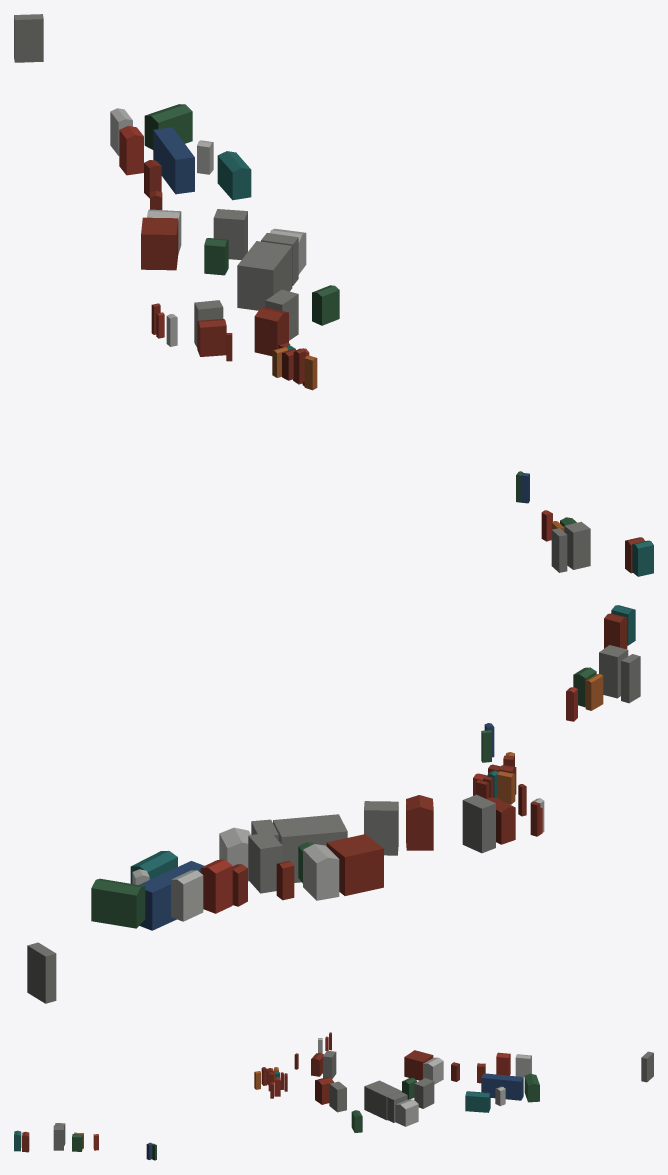
Rendered from near-15-27373-14871.54d41add.glb.
The picture shows the model from 3 angles, top to bottom: view 1: azimuth 30°, elevation 25°; view 2: azimuth 150°, elevation 25°; view 3: azimuth 270°, elevation 25°; orthographic projection. The views are drawn at different scales.
Bounding box in the file's own units: 143 × 101 × 635.
